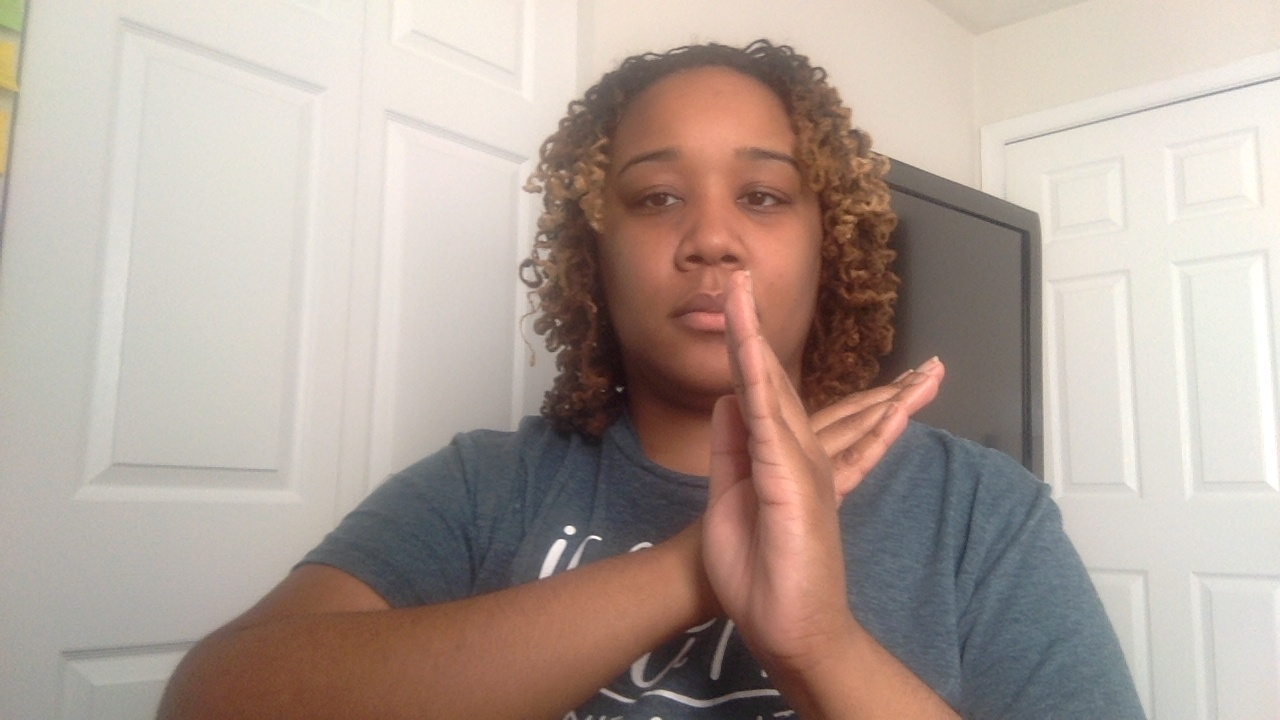quiet: (682, 270, 956, 693)
